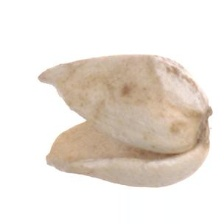L1: (37, 73, 86, 163), (197, 107, 214, 149)
L2: (36, 55, 213, 188)
